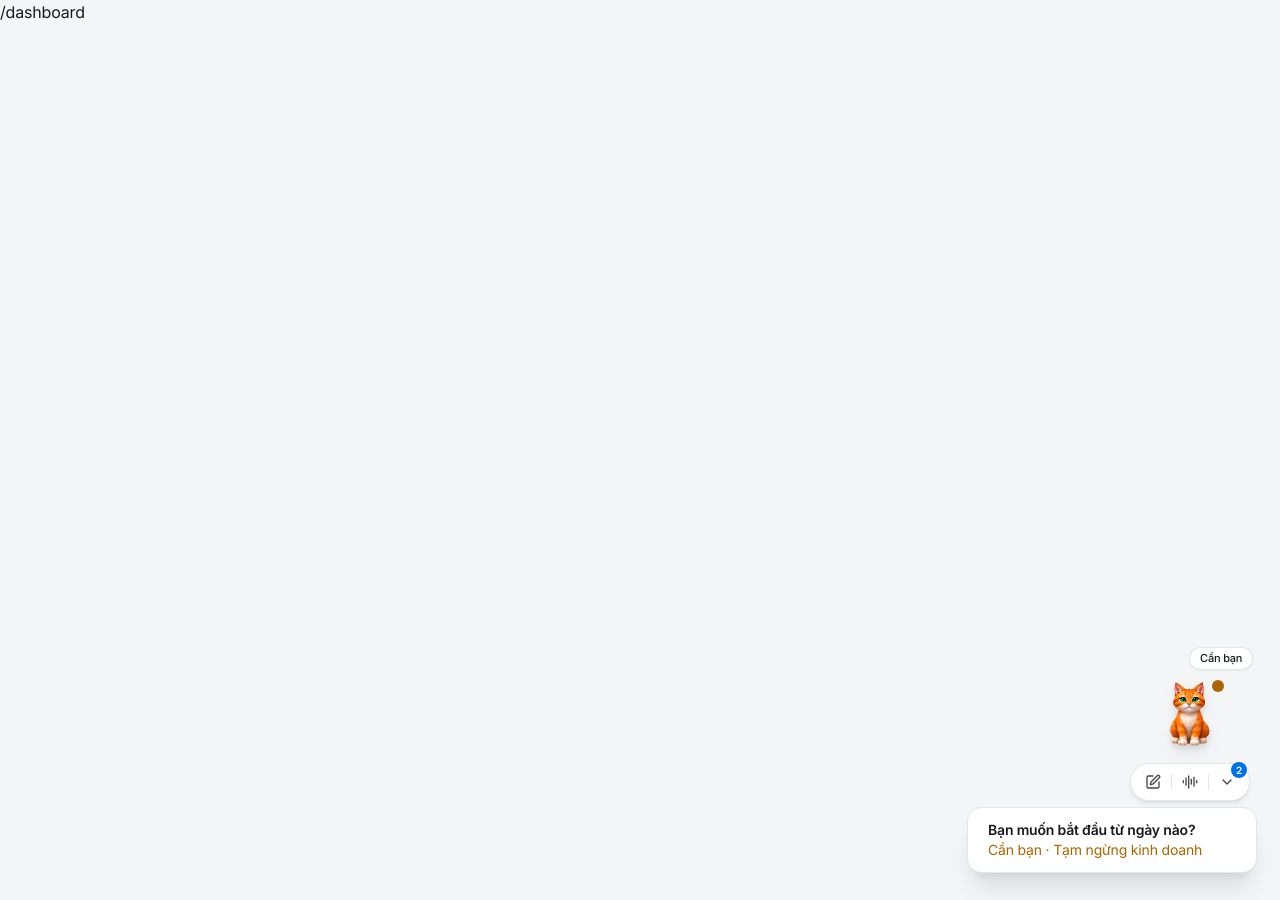
Pet MIMI › có chuyện mới → thẻ hoạt động tự ló lên (không cần bấm), rồi thu lại; mũi tên bung/thu cả danh sách
Expected: the text "Bạn muốn bắt đầu từ ngày nào?" is shown, [988,820,1195,840]
Expected: the text "Năm nay bạn có mấy nguồn thu nhập?" is not shown
Click the button named "Hoạt động — 2 mục" at (1227, 782), box [1209,766,1245,798]
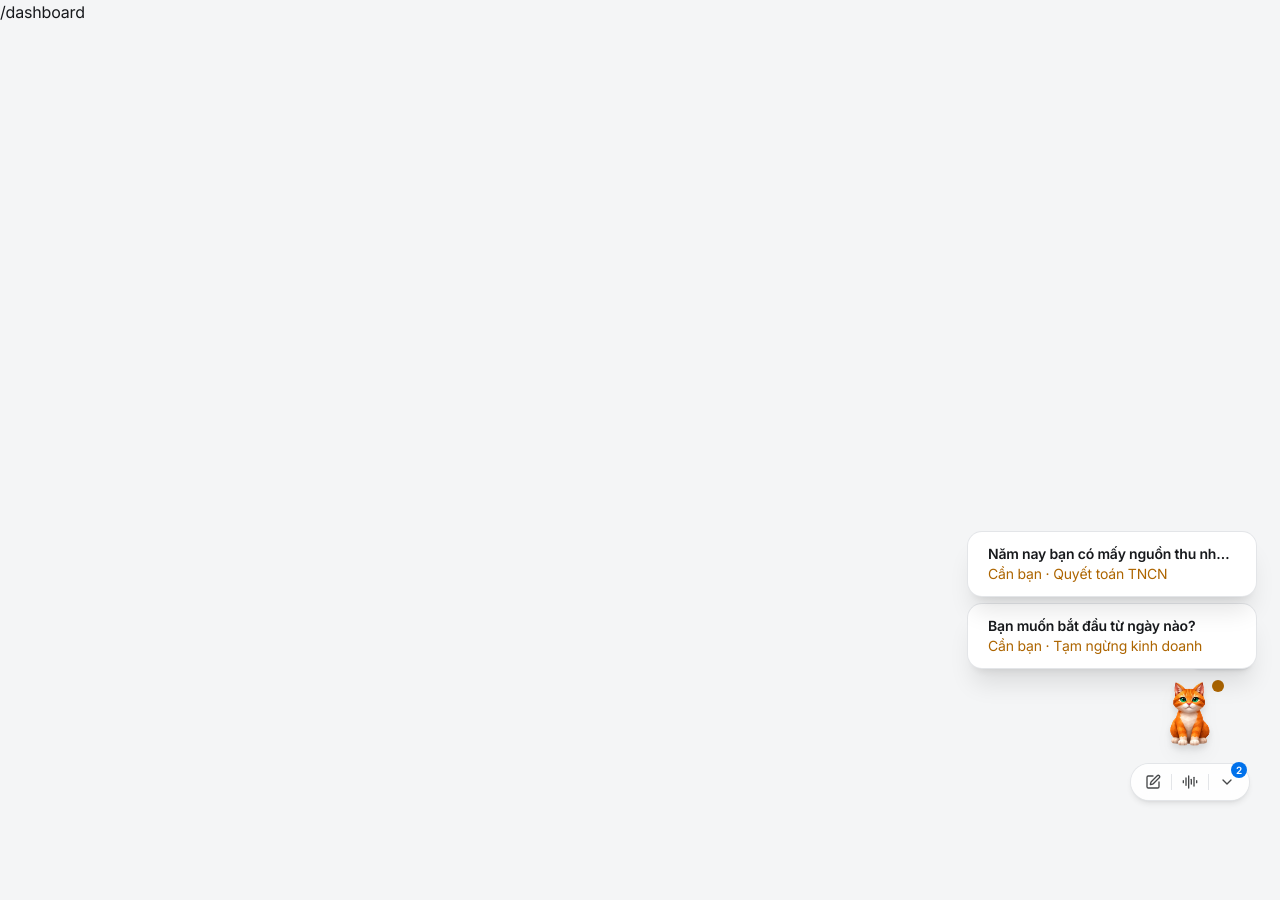
Expected: the text "Năm nay bạn có mấy nguồn thu nhập?" is shown, [988,544,1236,564]
Expected: the text "Cần bạn · Quyết toán TNCN" is shown, [988,565,1168,582]
Click the button "2" at (1227, 782), box [1209,766,1245,798]
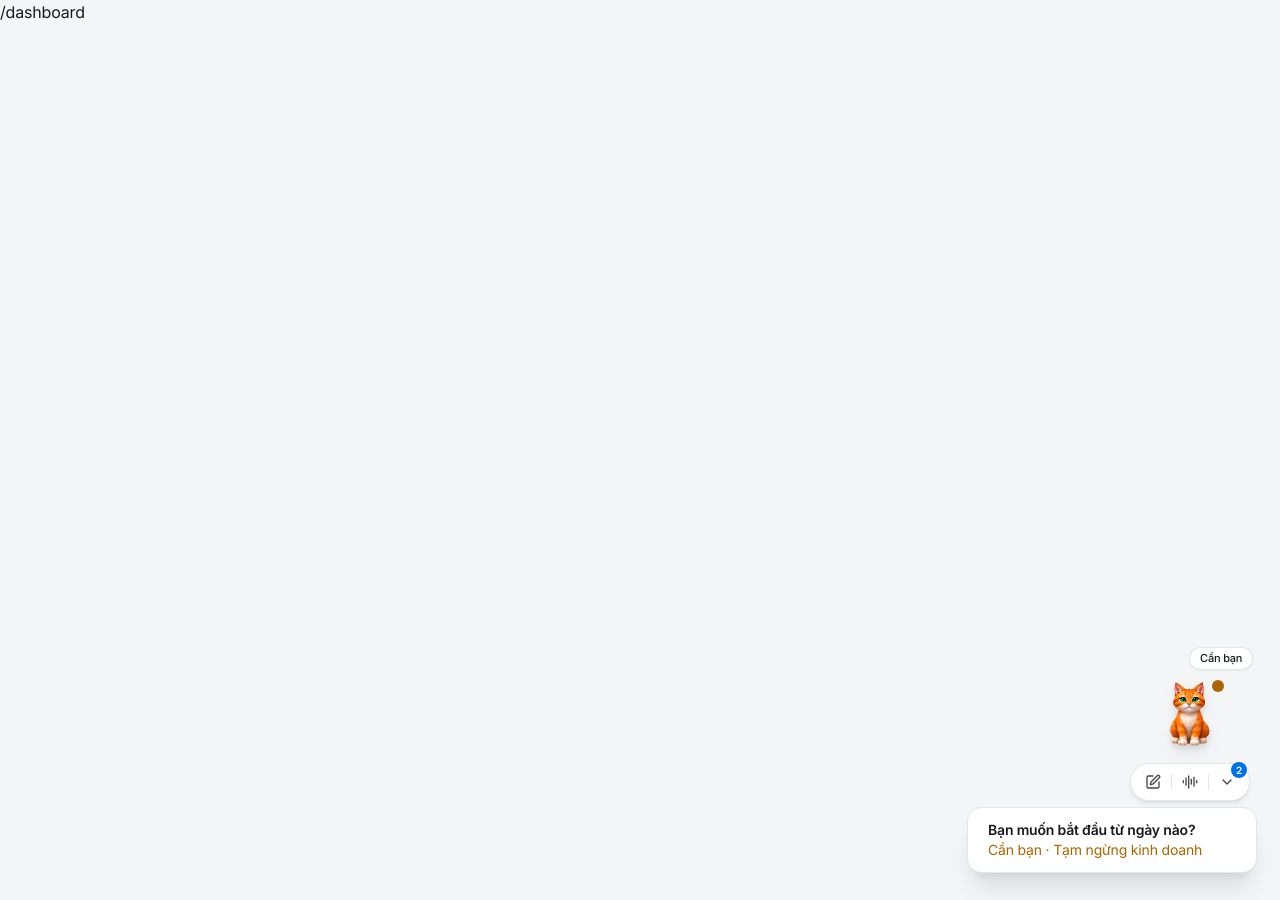
Expected: the button "Năm nay bạn có mấy nguồn thu nhập?" is gone
